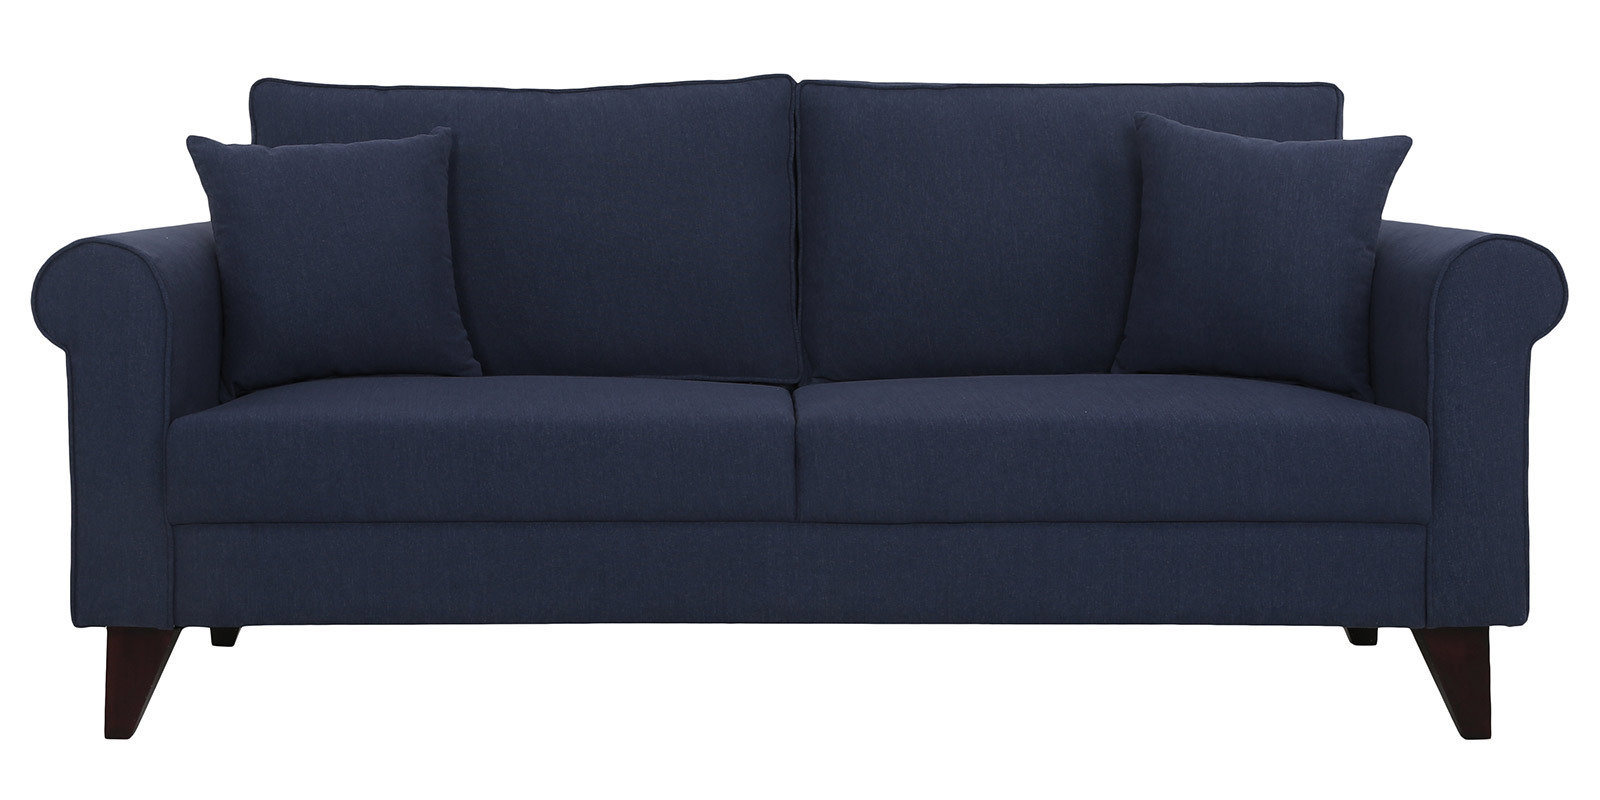Fuego Three Seater Sofa in Navy Blue Colour by CasaCraft: (29, 56, 1586, 800)
